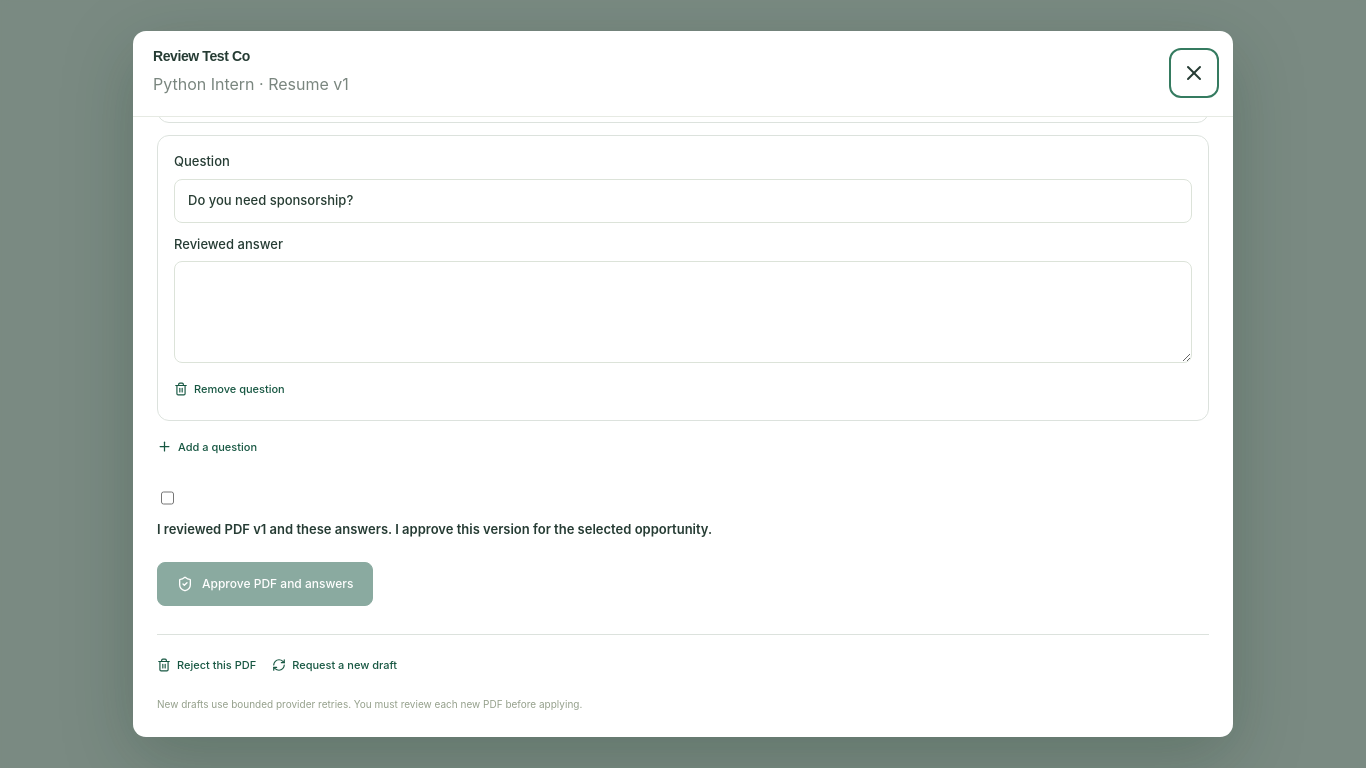
Test: exact PDF and answer review › blocks rejected drafts and exposes bounded regeneration errors without closing
The width and height of the screenshot is (1366, 768).
(page scrolled)
Click the button "Reject this PDF". click: {"x": 207, "y": 665}
box: [157,651,256,679]
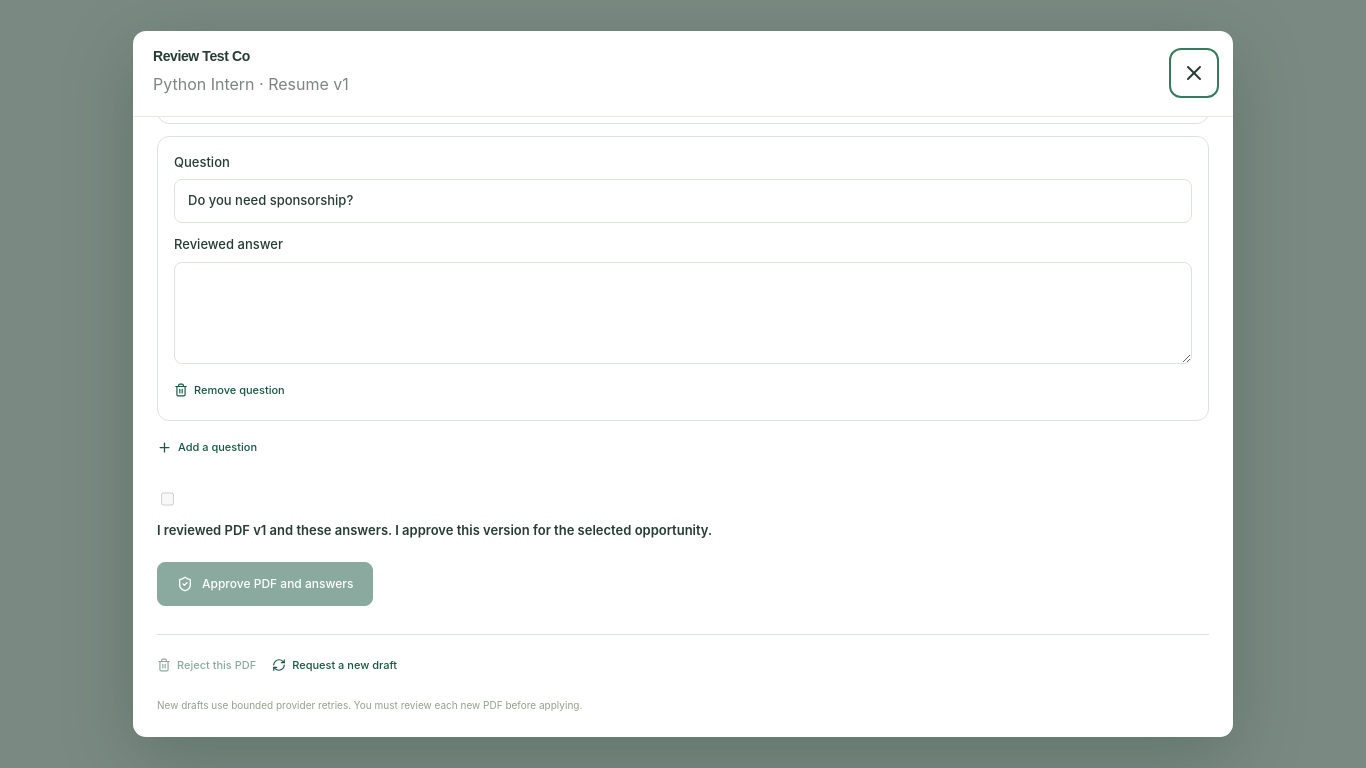
Now the checkbox labelled "I reviewed PDF" is disabled, box [161,490,174,508]
Click the button "Request a new draft". click: {"x": 335, "y": 665}
box: [272,651,397,680]
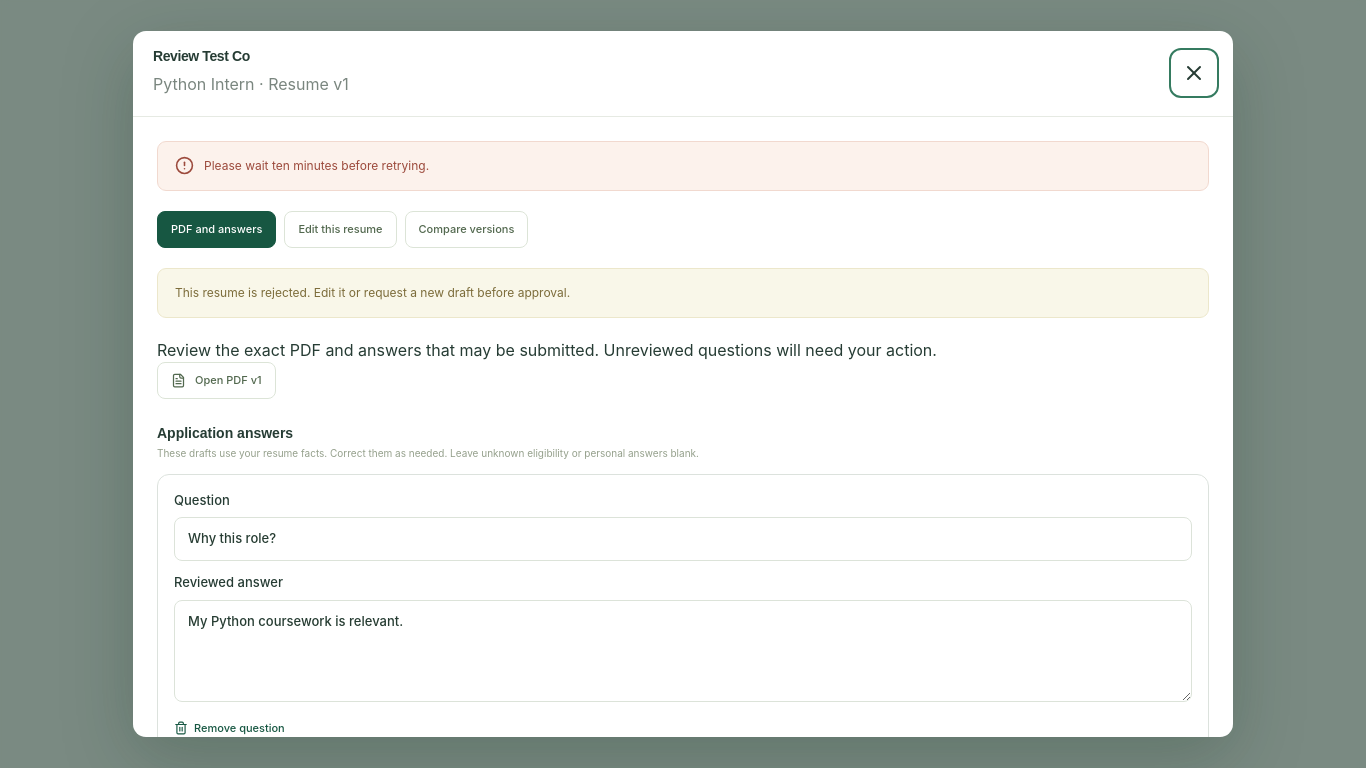
Now the message "Please wait ten minutes before retrying." is shown, box [157,141,1209,191]
